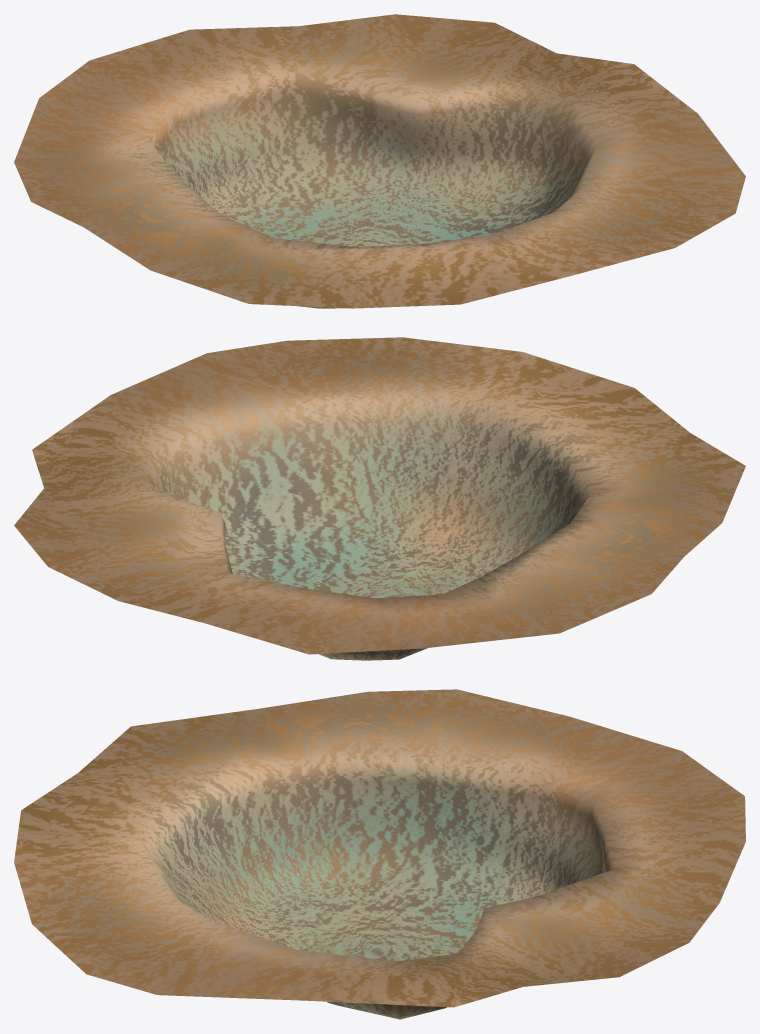
Rendered from Oasis.fbx.
3 views of the same model, one above another, from view 1: azimuth 30°, elevation 25°; view 2: azimuth 150°, elevation 25°; view 3: azimuth 270°, elevation 25° (orthographic). The views are drawn at different scales.
Visible parts, largest first — view 1: Osis; view 2: Osis; view 3: Osis.
Boxes of the visible parts, x1,y1,x2,y2 form: Osis: [14, 14, 745, 308]; Osis: [14, 337, 745, 660]; Osis: [14, 689, 745, 1019].
Size of the model in its own units: 254 by 45.58 by 254.
